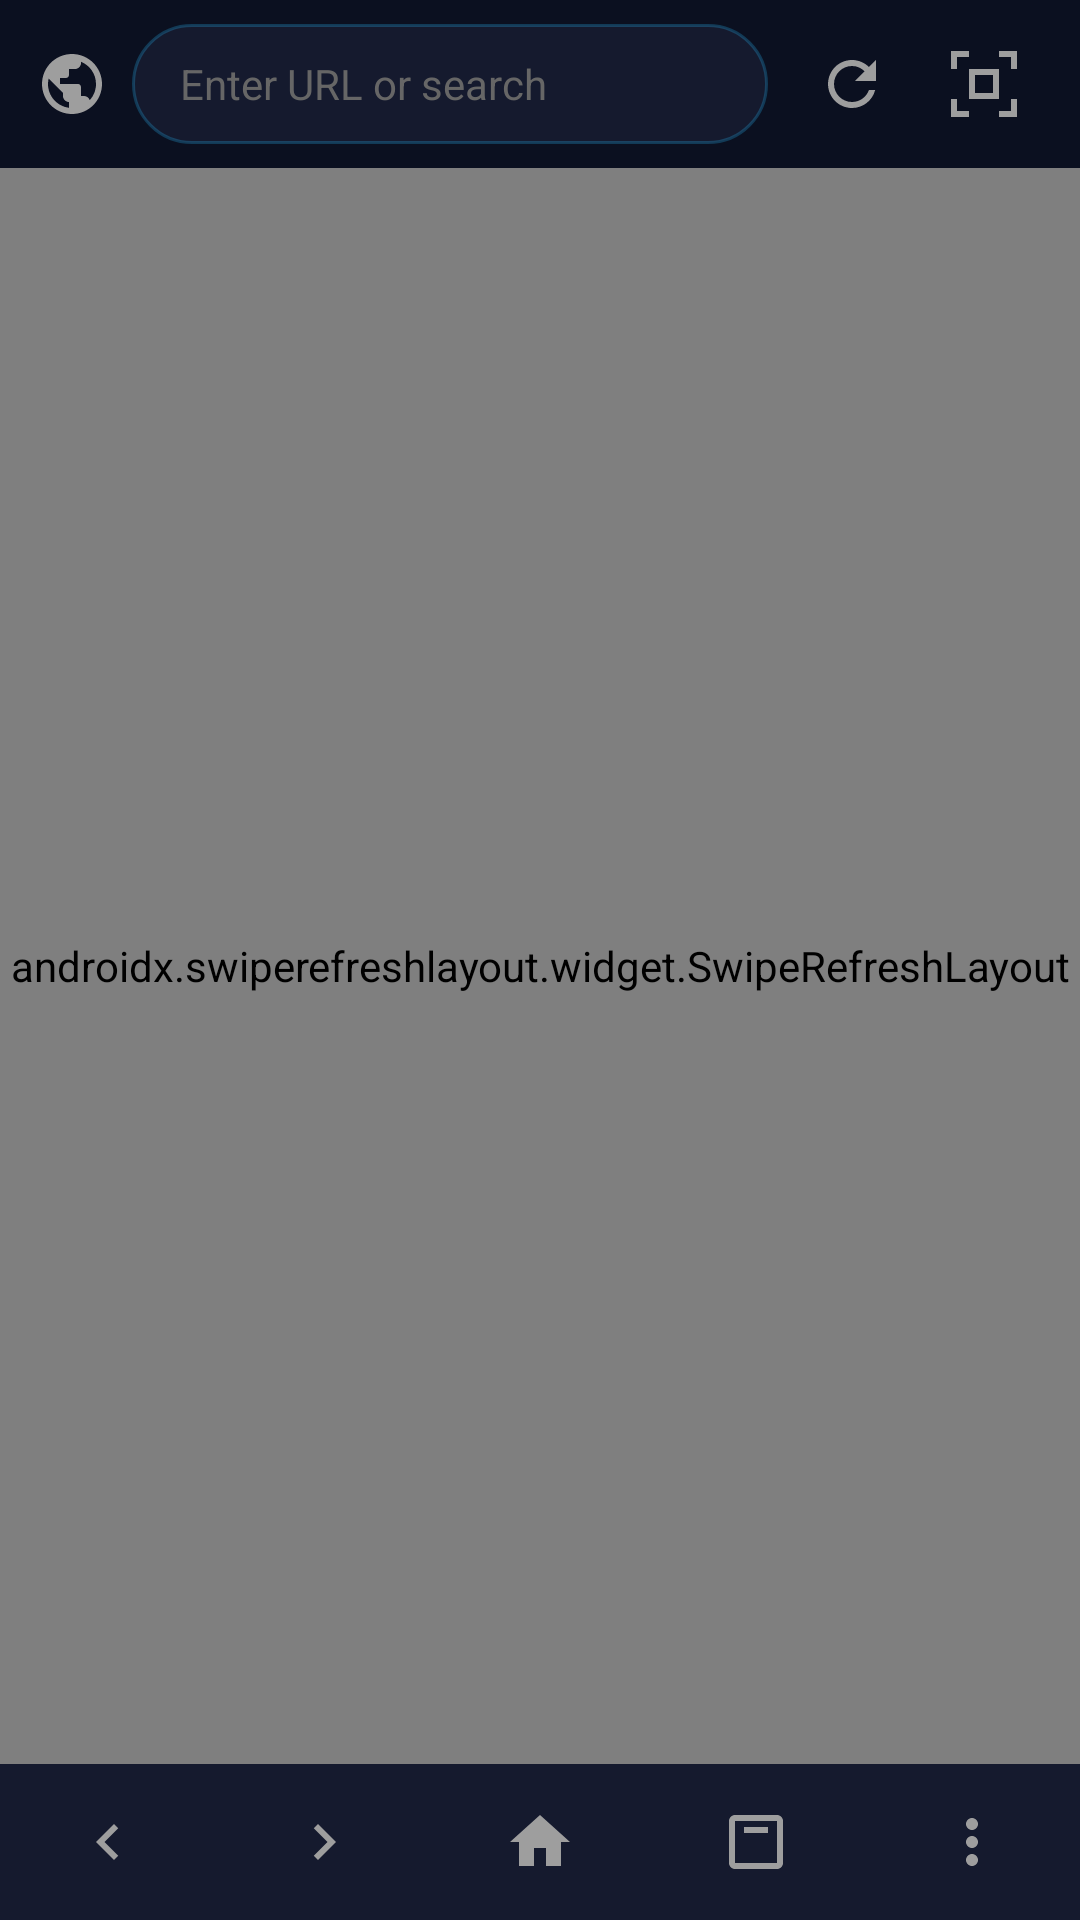

Icons on this 1080*1920 Android screen, each with its box as (x1, y1, x2, y2):
Back: (96, 1824, 118, 1860)
Forward: (314, 1824, 336, 1860)
Home: (510, 1815, 570, 1866)
Menu: (966, 1818, 978, 1866)
Scan QR Code: (951, 51, 1017, 117)
Tabs: (729, 1815, 783, 1869)
